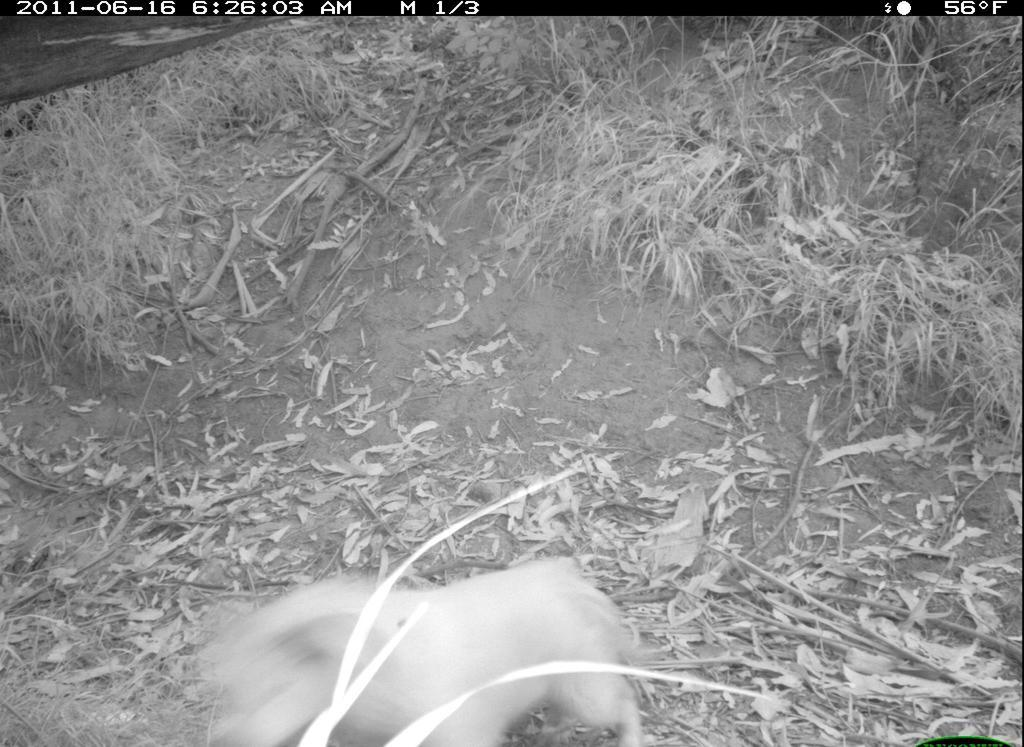dog: (155, 553, 674, 747)
